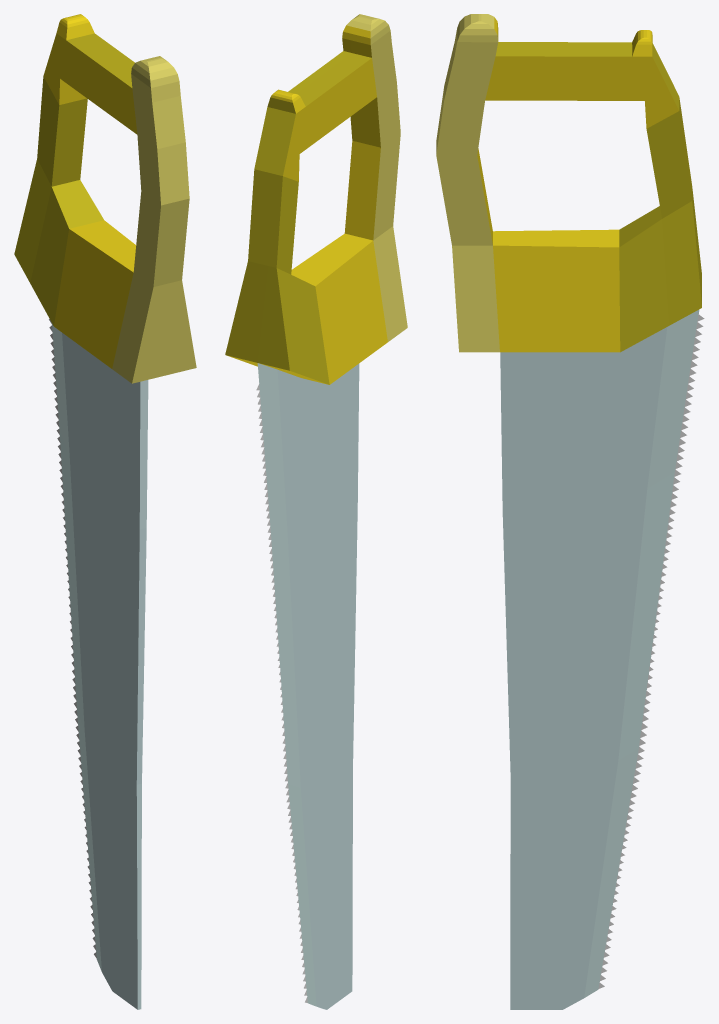
File: saw1.glb
3 renders of one model, left to right at view 1: azimuth 30°, elevation 25°; view 2: azimuth 150°, elevation 25°; view 3: azimuth 270°, elevation 25°, orthographic. The views are drawn at different scales.
Parts seen in each view (by area): view 1: Cube; view 2: Cube; view 3: Cube.
Boxes of the visible parts, x1,y1,x2,y2 form: Cube: (14,14,196,1009); Cube: (225,14,407,1009); Cube: (436,14,704,1009).
Bounding box in the file's own units: 0.0499 × 0.7072 × 0.1735.
